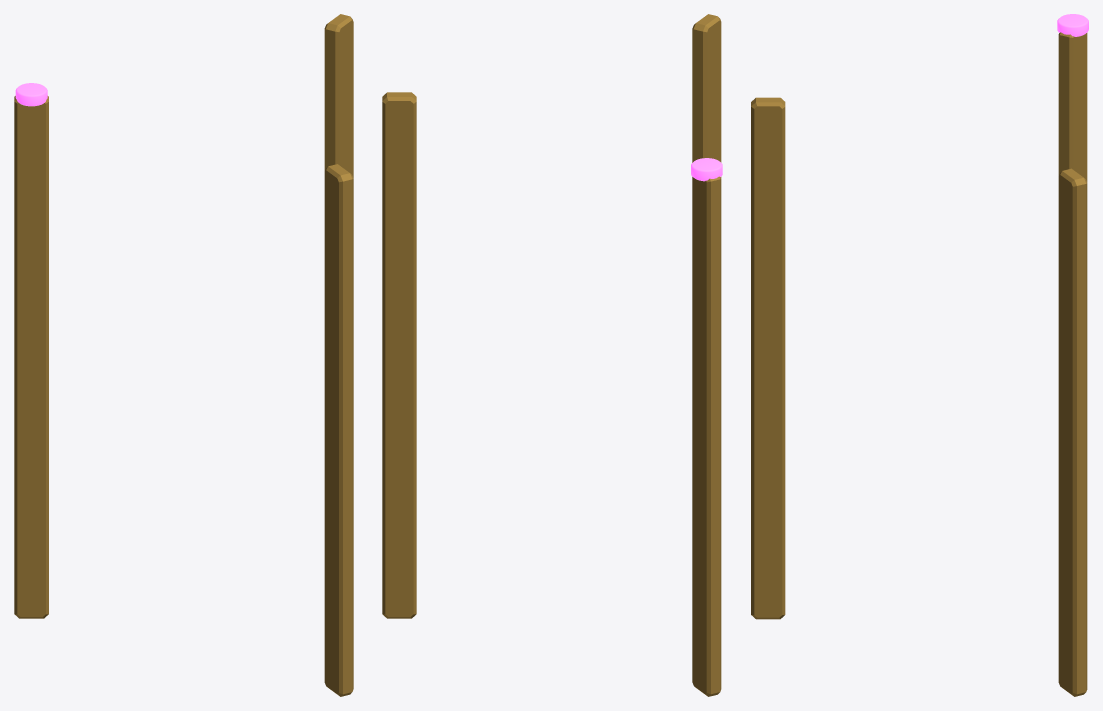
The model's file is tower_arc_damage_s2.glb.
3 renders of one model, left to right at view 1: azimuth 30°, elevation 25°; view 2: azimuth 150°, elevation 25°; view 3: azimuth 270°, elevation 25°, orthographic.
Parts seen in each view (by area): view 1: arc_ground_strap0, arc_ground_strap2, arc_ground_strap1, arc_up_damage_l2_stud; view 2: arc_ground_strap1, arc_ground_strap0, arc_ground_strap2, arc_up_damage_l2_stud; view 3: arc_ground_strap2, arc_ground_strap1, arc_ground_strap0, arc_up_damage_l2_stud.
Part boxes in pixels (<box>): arc_ground_strap0: <box>14,96,48,618</box>; arc_ground_strap2: <box>324,164,353,696</box>; arc_ground_strap1: <box>324,14,353,177</box>; arc_up_damage_l2_stud: <box>15,83,47,106</box>; arc_ground_strap1: <box>382,92,416,618</box>; arc_ground_strap0: <box>692,176,721,696</box>; arc_ground_strap2: <box>692,14,721,177</box>; arc_up_damage_l2_stud: <box>691,158,722,181</box>; arc_ground_strap2: <box>751,97,785,619</box>; arc_ground_strap1: <box>1058,168,1087,696</box>; arc_ground_strap0: <box>1058,32,1087,181</box>; arc_up_damage_l2_stud: <box>1057,14,1088,36</box>.
Size of the model in its own units: 0.6858 by 1.02 by 0.5984.
